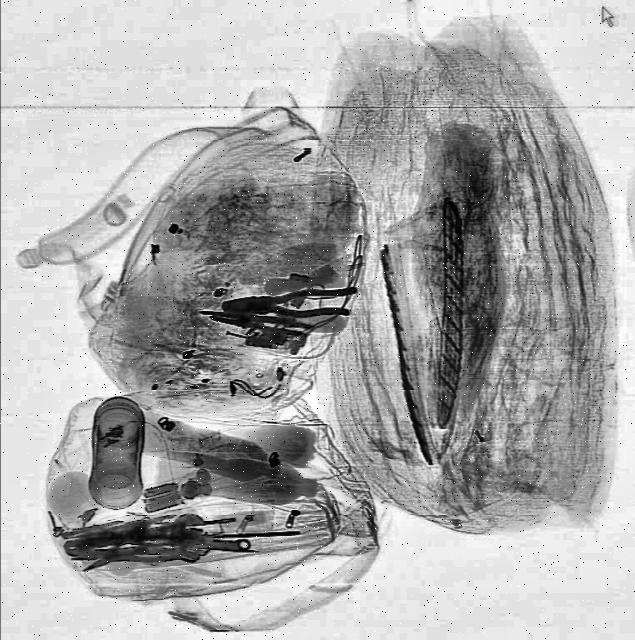Pliers: (221, 286, 355, 322)
Wrench: (60, 509, 207, 563)
